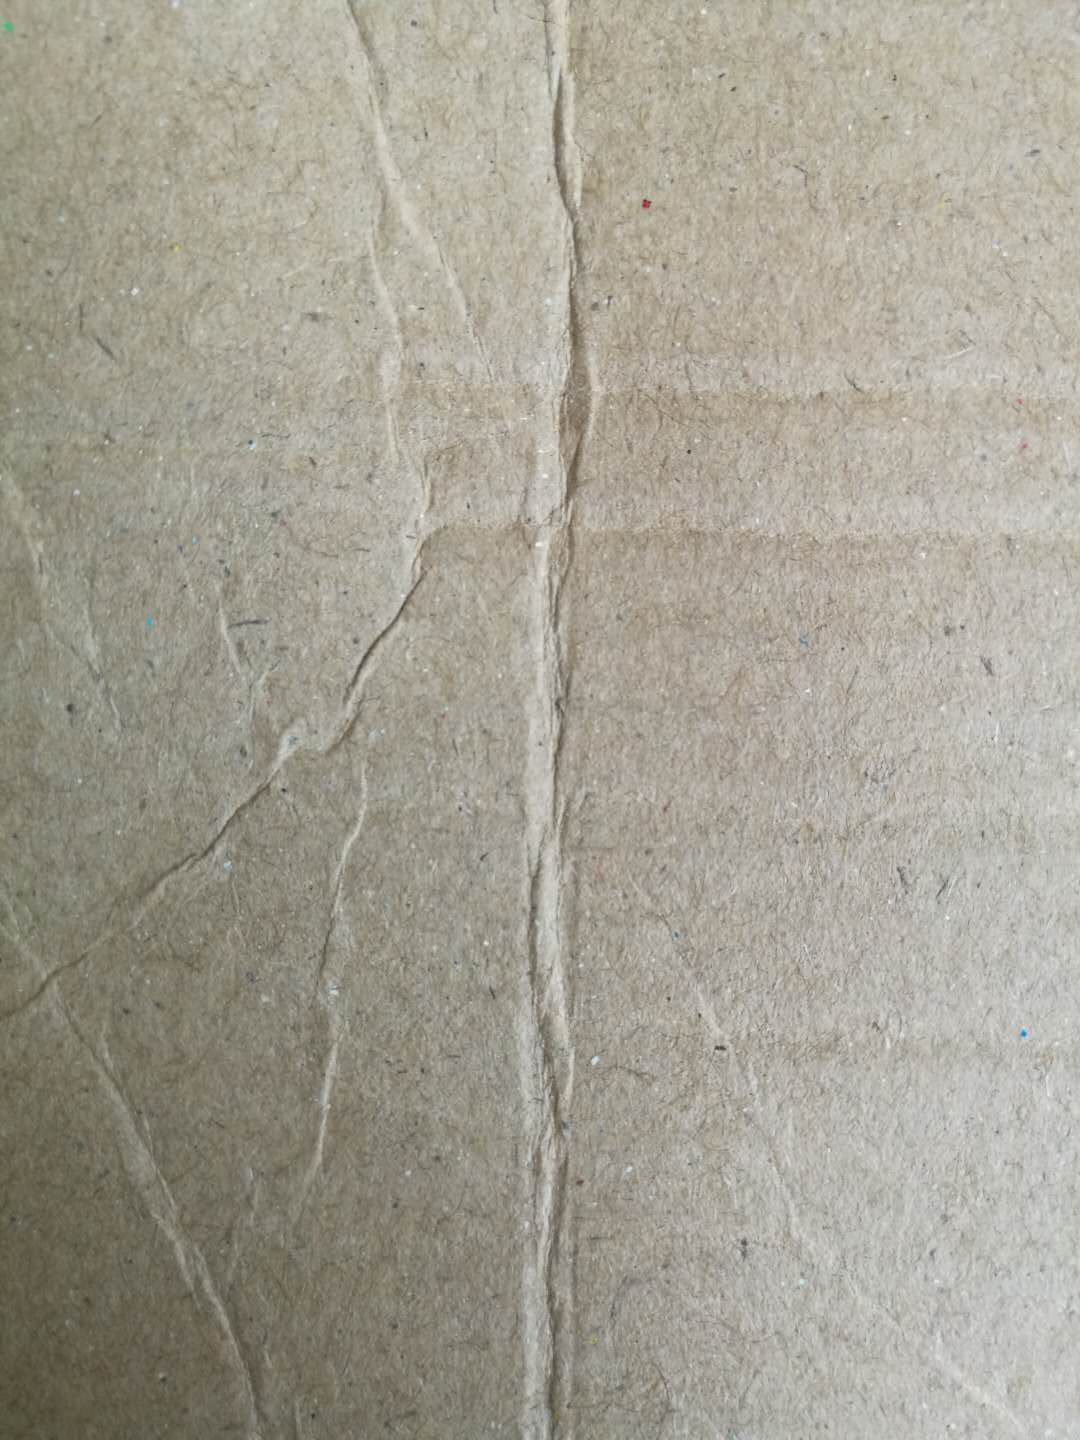defect: (6, 5, 665, 1440), (434, 353, 1080, 586)
